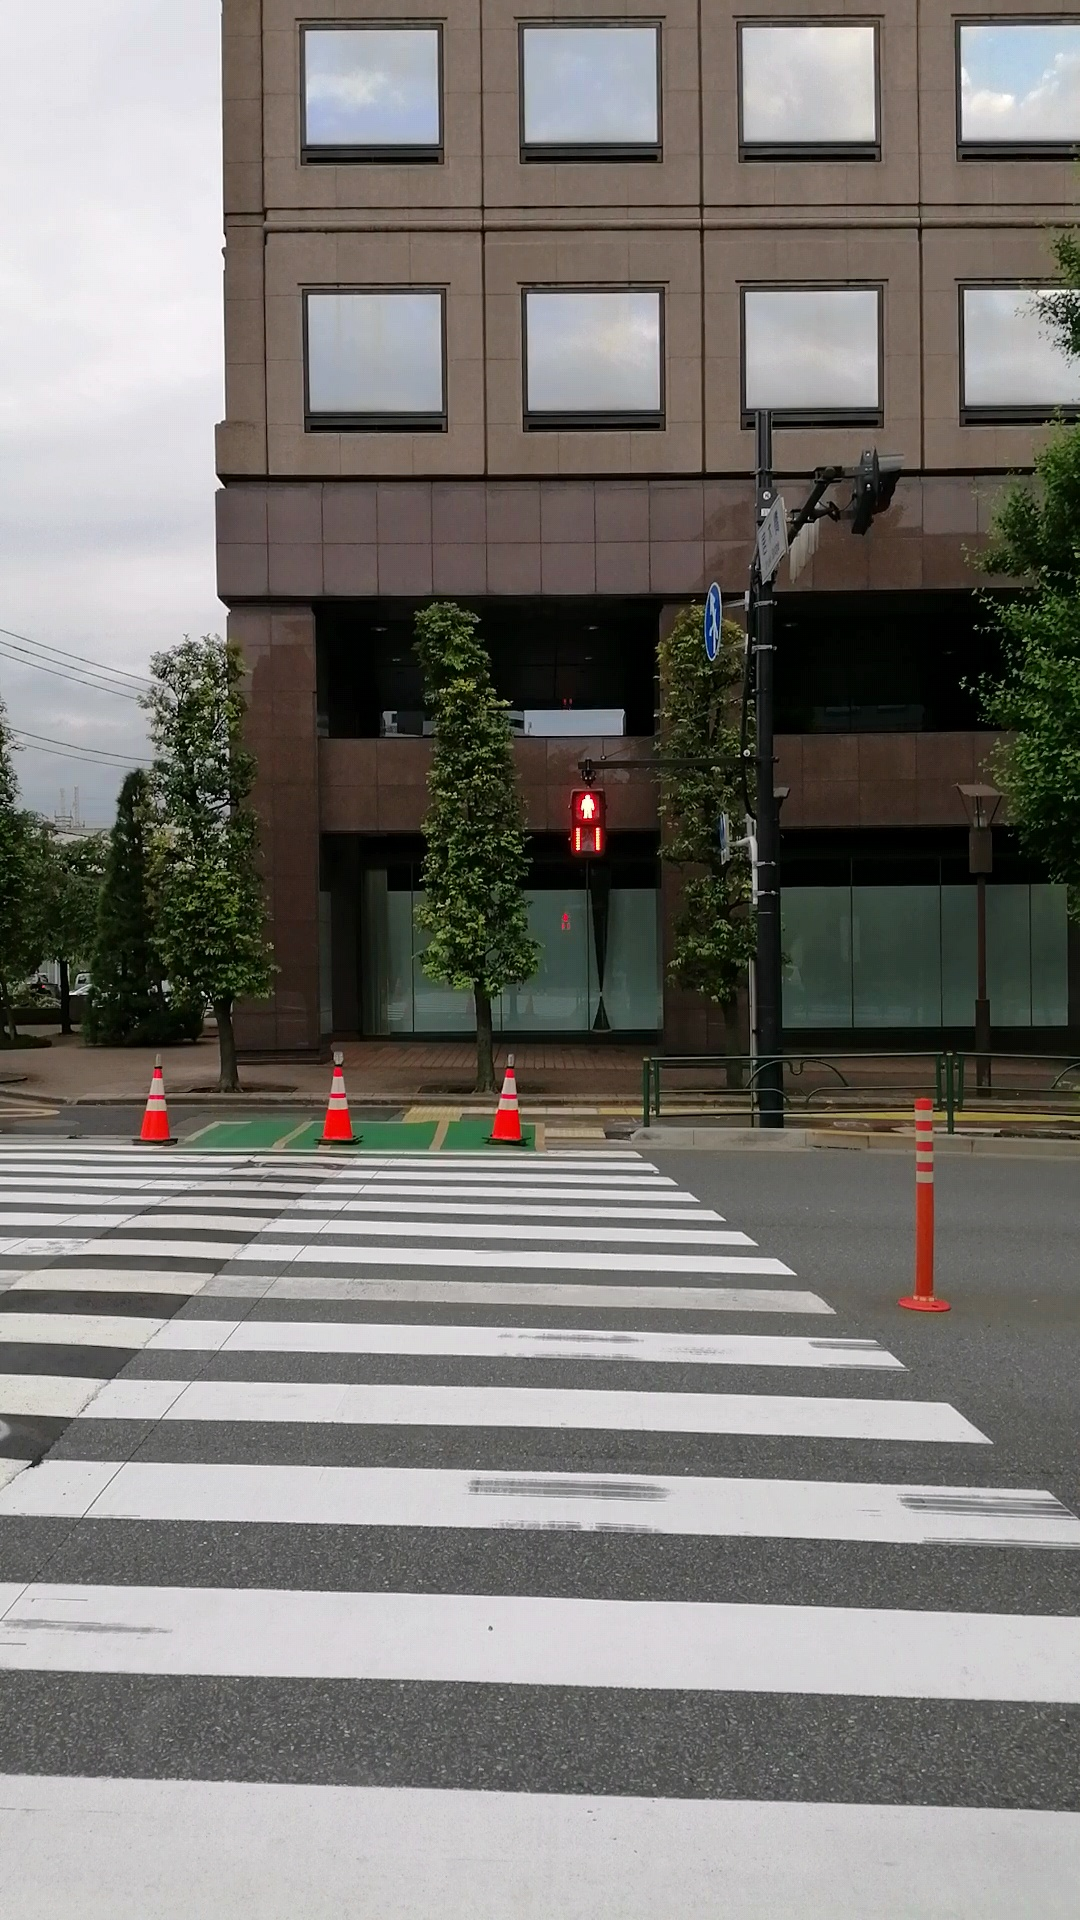red: (568, 787, 607, 856)
